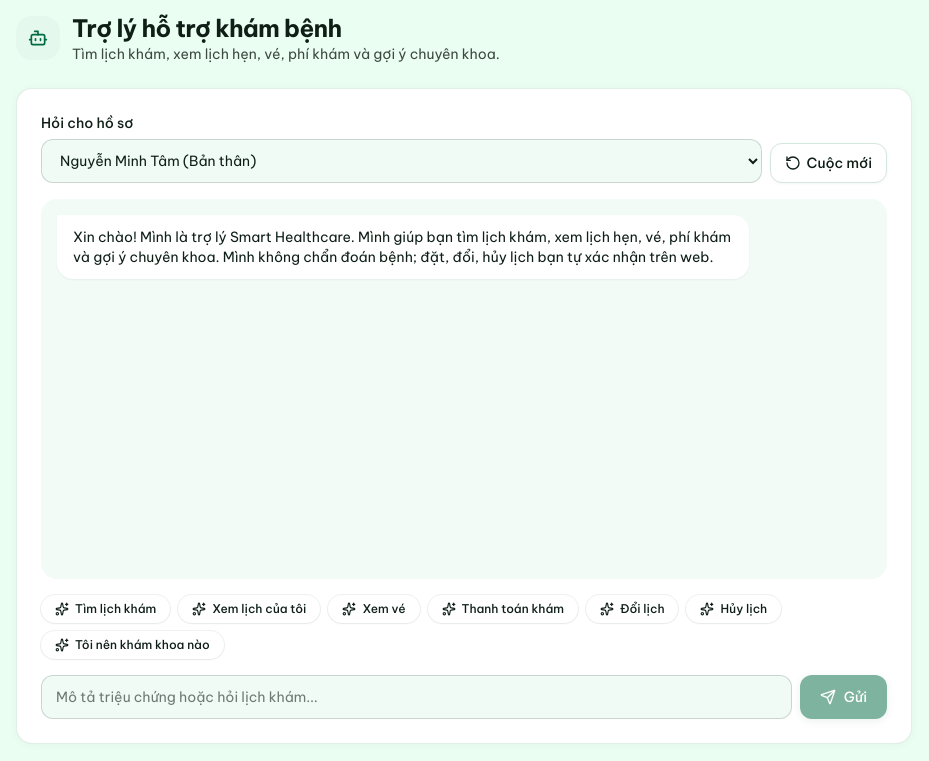
Patient Web › P25: shows 115 red-flag without booking CTA
Type "Tôi bị đau ngực dữ dội và khó thở" into the field with placeholder "Mô tả triệu chứng hoặc hỏi lịch khám..." at coordinates (416, 697), box [41,675,792,719]
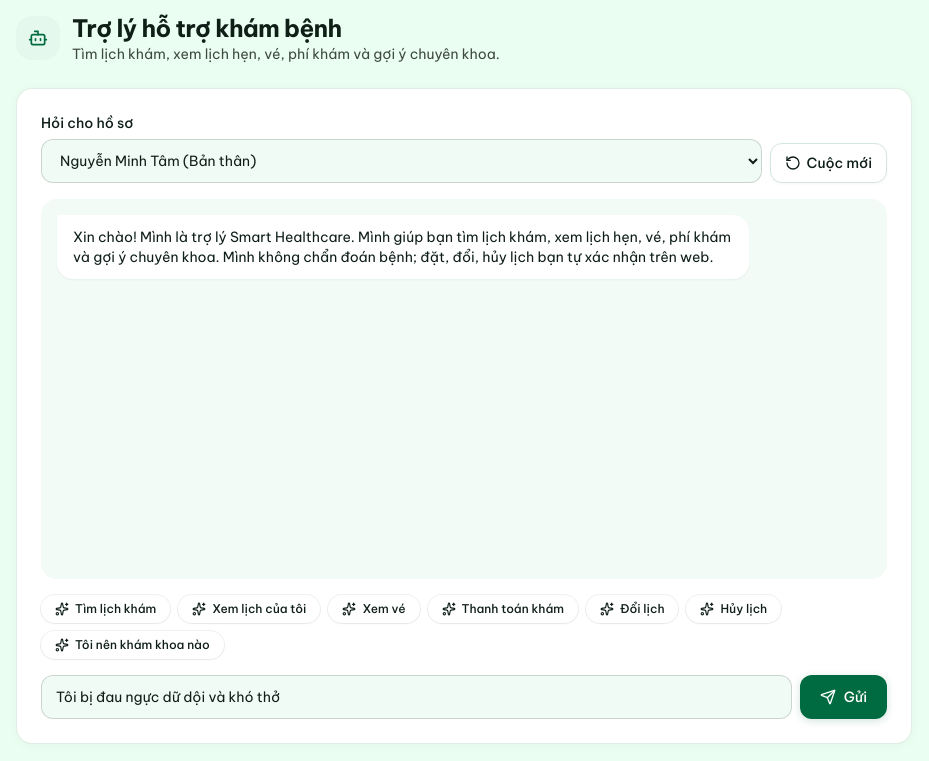
Click the button "Gửi" at coordinates (843, 697), box [800,675,887,719]
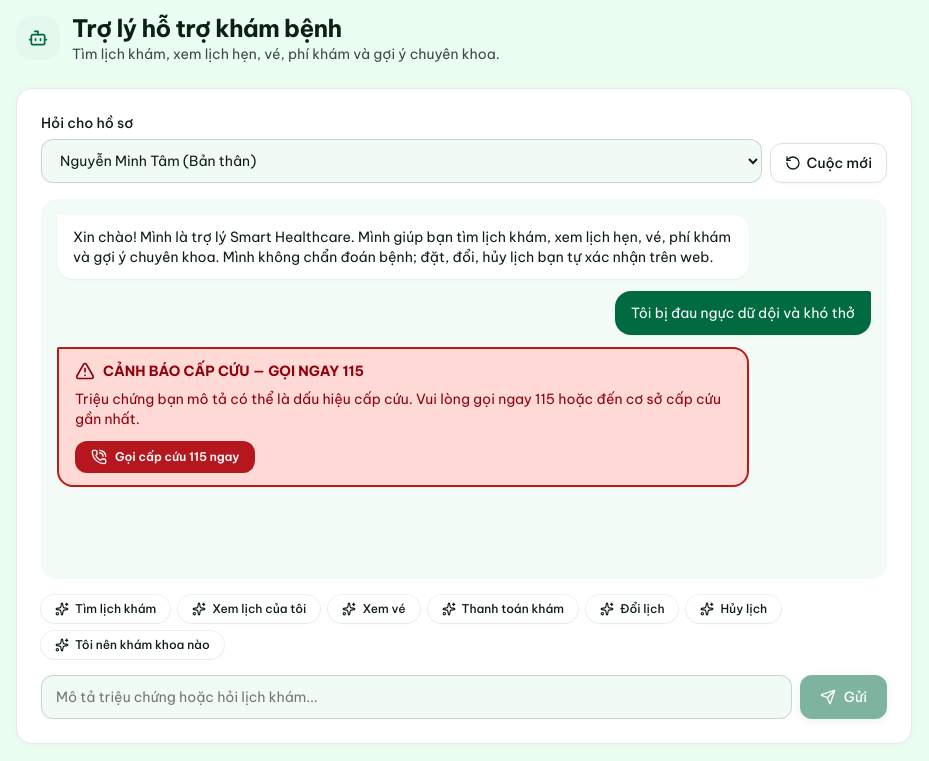
Result: the text "CẢNH BÁO CẤP CỨU — GỌI NGAY 115" is shown at [103,361,364,381]
Result: the link "Gọi cấp cứu 115 ngay" is shown at [75,441,255,473]
